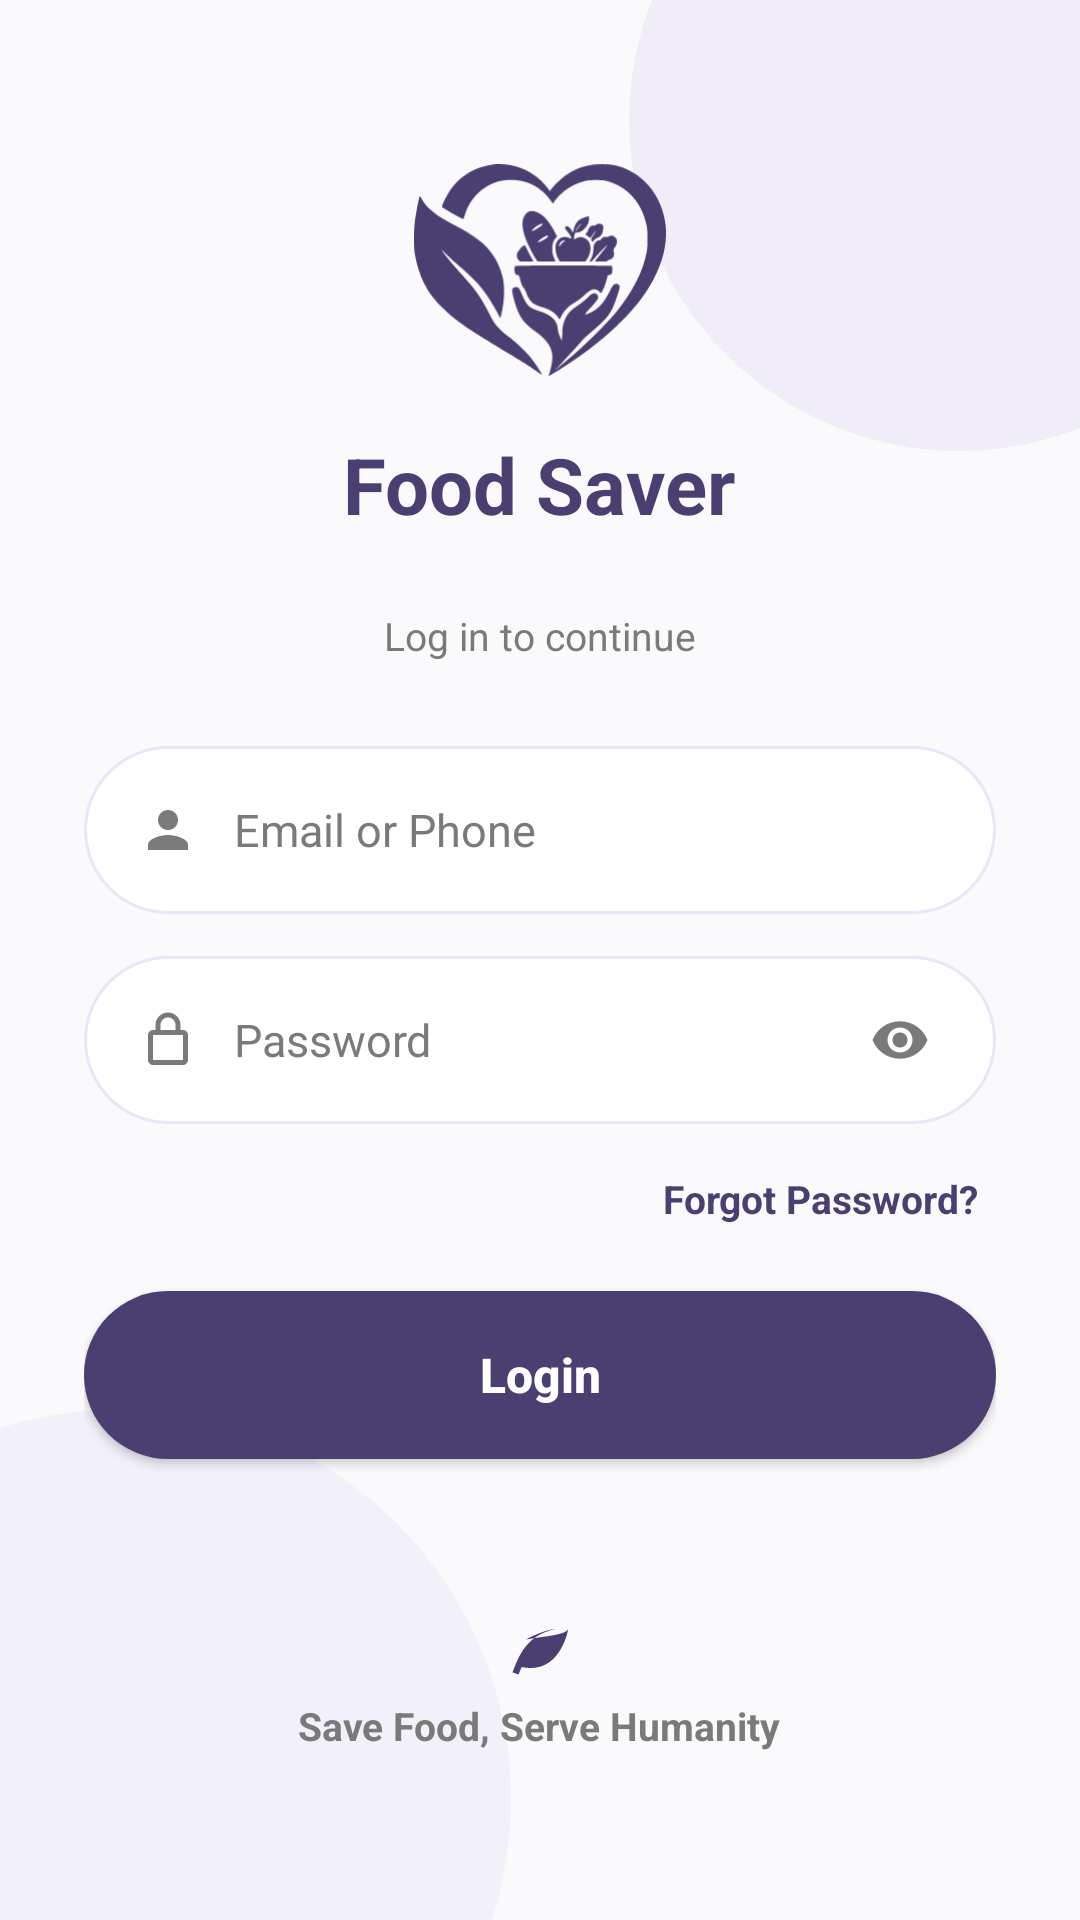

Where icons sit on this 1080*1920 app screen, as box=[x1, y1, x2, y2]:
Leaf: box=[512, 1629, 568, 1675]
